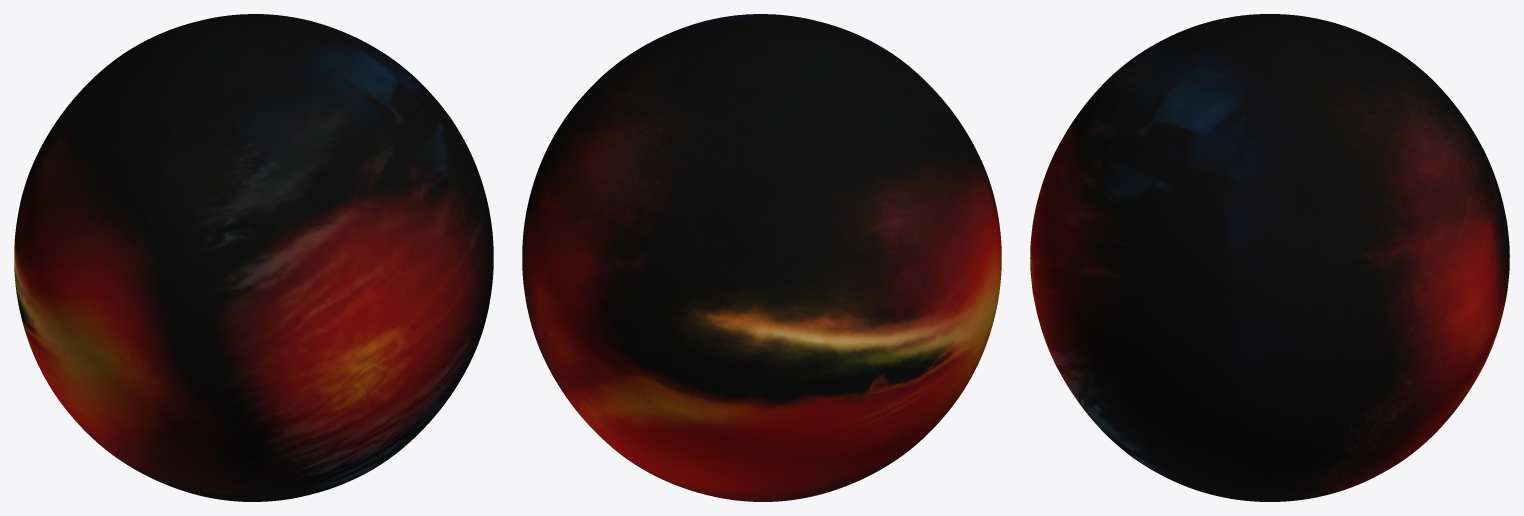
The model's file is inferno_eclipse.glb.
3 renders of one model, left to right at view 1: azimuth 30°, elevation 25°; view 2: azimuth 150°, elevation 25°; view 3: azimuth 270°, elevation 25°, orthographic.
Size of the model in its own units: 0.6249 by 0.6363 by 0.6213.
1 material, 1 textured.
